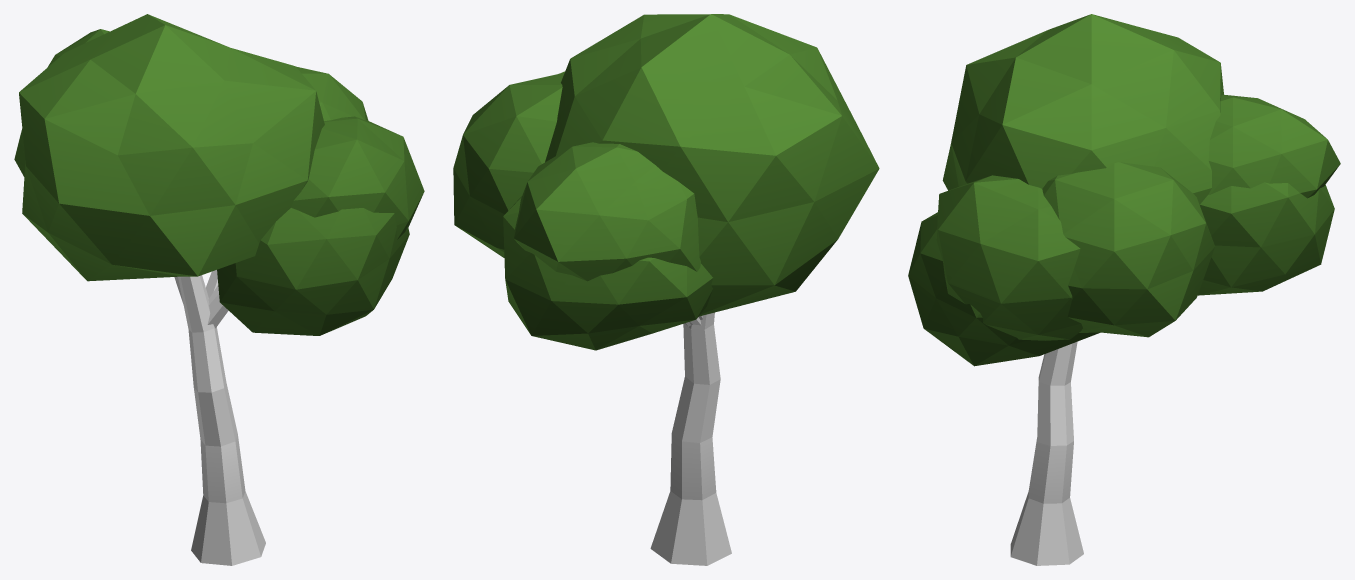
The model's file is tree_a.glb.
The picture shows the model from 3 angles, left to right: view 1: azimuth 30°, elevation 25°; view 2: azimuth 150°, elevation 25°; view 3: azimuth 270°, elevation 25°; orthographic projection. The views are drawn at different scales.
Parts seen in each view (by area): view 1: Canopy_deco, Trunk; view 2: Canopy_deco, Trunk; view 3: Canopy_deco, Trunk.
Boxes of the visible parts, x1,y1,x2,y2 form: Canopy_deco: (14, 14, 424, 335); Trunk: (174, 270, 265, 565); Canopy_deco: (453, 14, 879, 350); Trunk: (650, 312, 731, 565); Canopy_deco: (908, 14, 1340, 366); Trunk: (1010, 341, 1083, 565).
Size of the model in its own units: 4.6 by 6.65 by 5.
